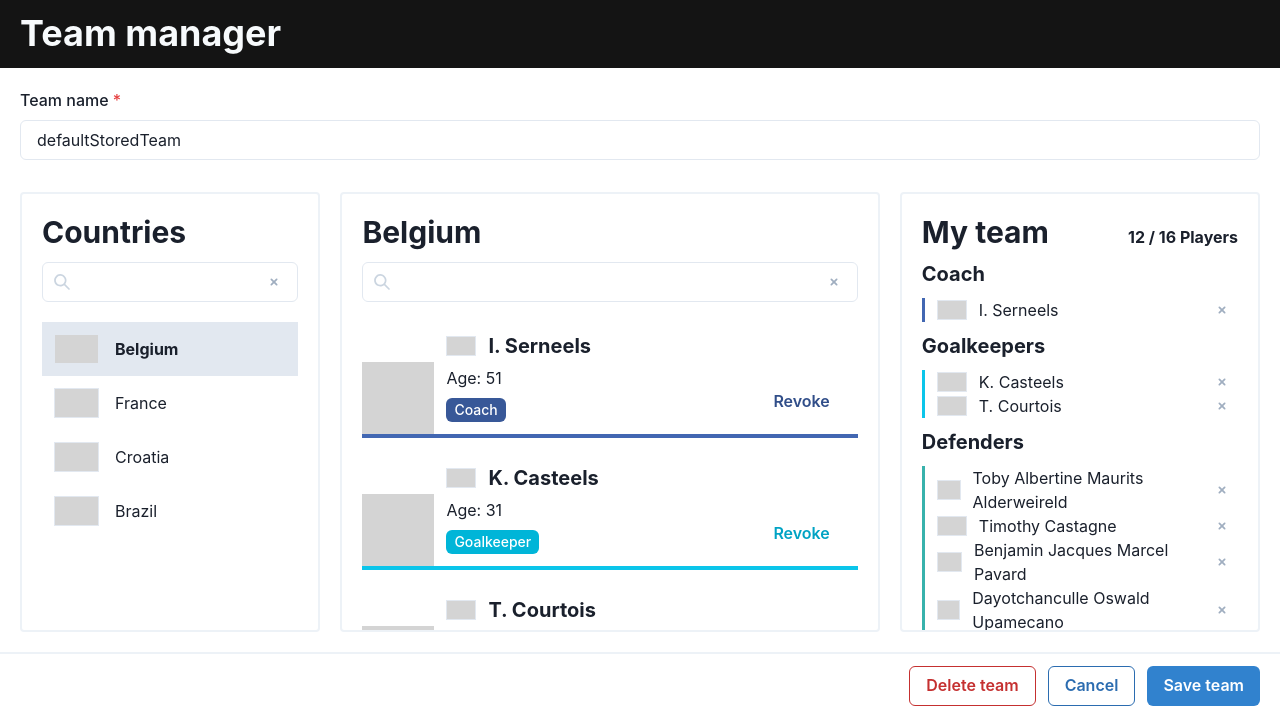
Test: <ManagerPlayersList /> › given the default scenario is stored › should be able to revoke player enrollment
Expected: the heading "Belgium" is shown, [362,214,481,250]
Click the button named "Revoke enrollment for K. Casteels.". click: (802, 534)
box: [757,514,846,554]
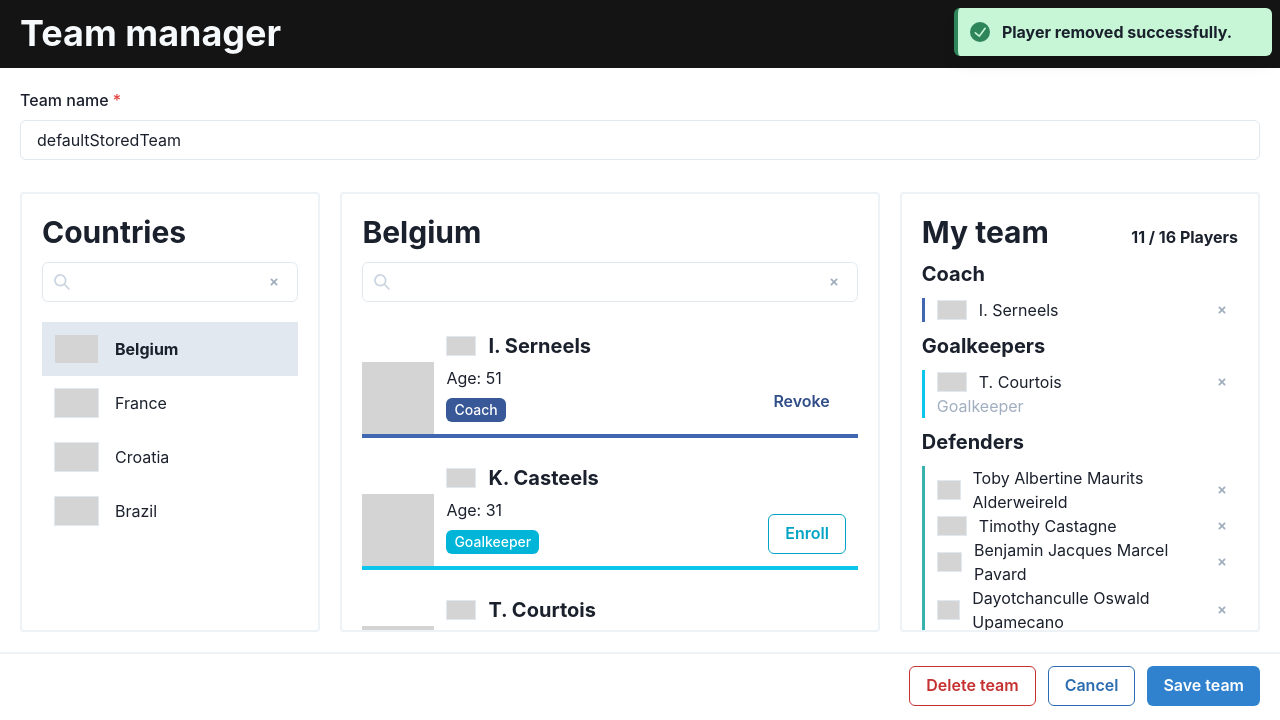
Now the text "Player removed successfully." is shown, box [1002,20,1232,44]
